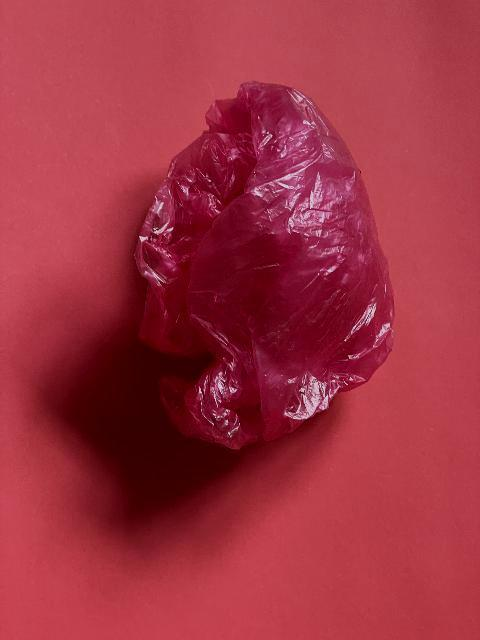plasticbag: (134, 77, 398, 457)
